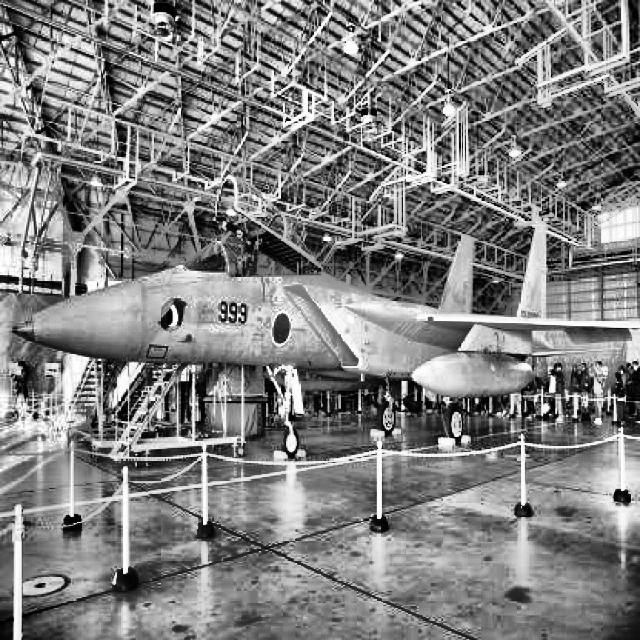F15: (10, 173, 639, 458)
